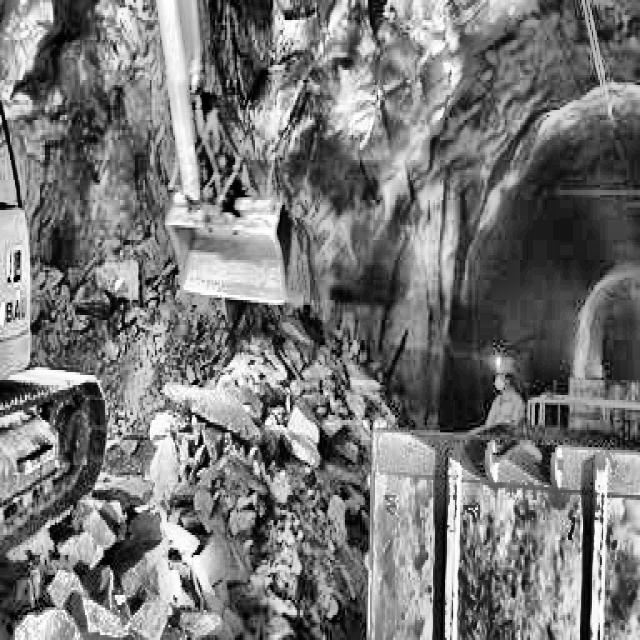dump_truck: (343, 275, 640, 640)
excavator: (0, 0, 348, 640)
